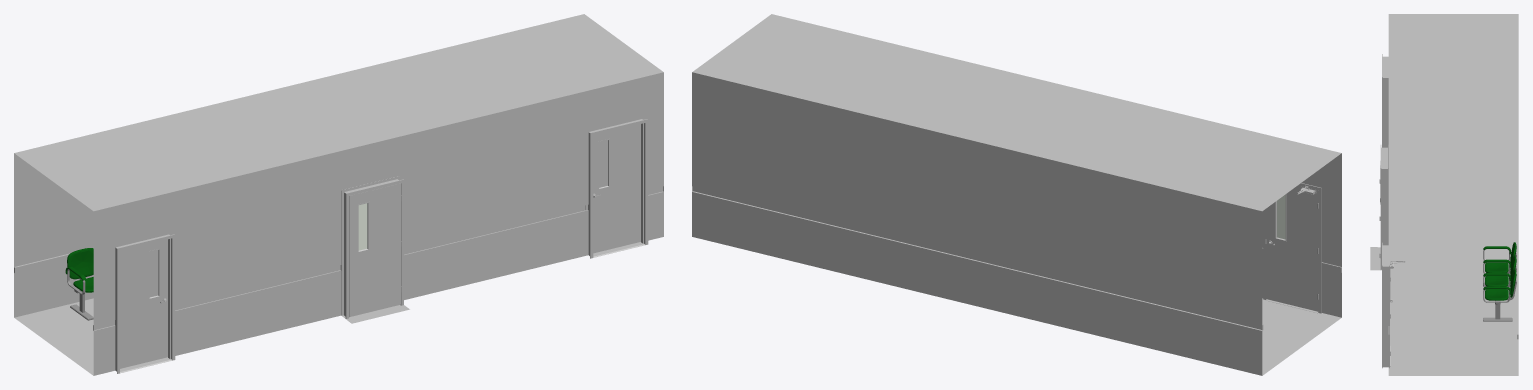
The model's file is Hall.003.fbx.
The picture shows the model from 3 angles, left to right: view 1: azimuth 30°, elevation 25°; view 2: azimuth 150°, elevation 25°; view 3: azimuth 270°, elevation 25°; orthographic projection. The views are drawn at different scales.
Visible parts, largest first — view 1: Hall.003; view 2: Hall.003; view 3: Hall.003.
Part boxes in pixels (box(x1,y1,x2,y2)): Hall.003: box(14, 14, 663, 375); Hall.003: box(692, 14, 1341, 375); Hall.003: box(1370, 14, 1518, 375).
Bounding box in the file's own units: 1000 × 276 × 275.
